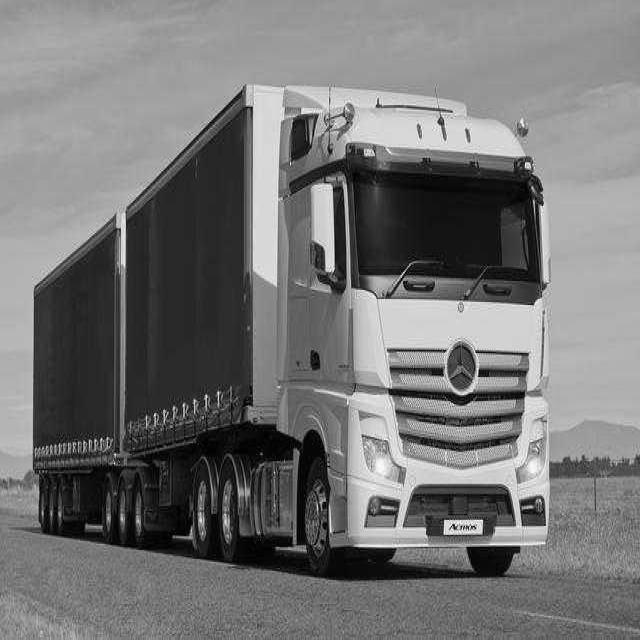Truck: (32, 85, 550, 574)
